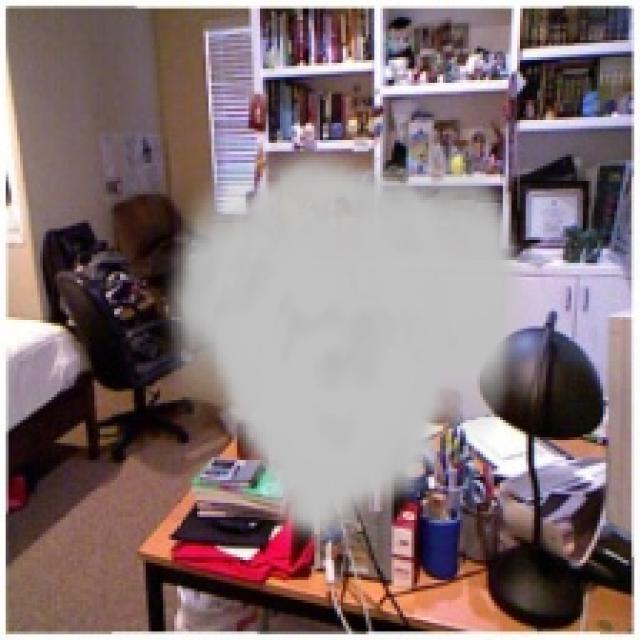Smoke: (154, 146, 529, 552)
